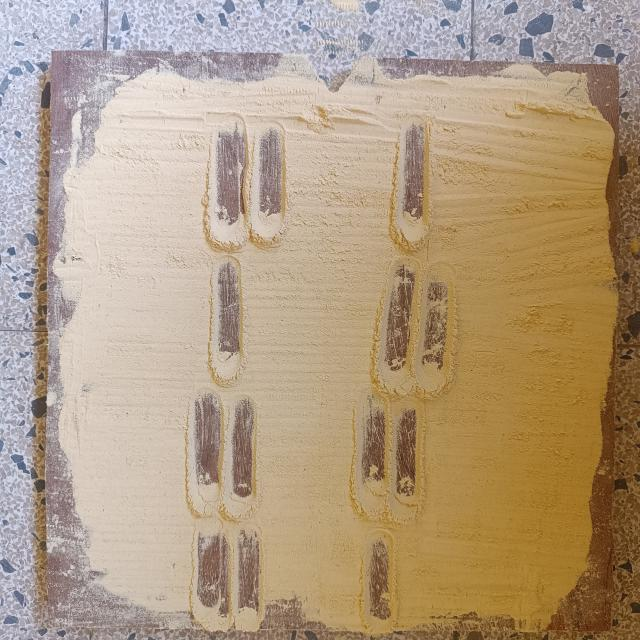double: (202, 110, 292, 258), (370, 264, 463, 406), (340, 389, 433, 530), (179, 387, 264, 527), (178, 522, 272, 636)
single: (387, 114, 440, 258), (205, 254, 252, 385), (356, 528, 402, 627)
